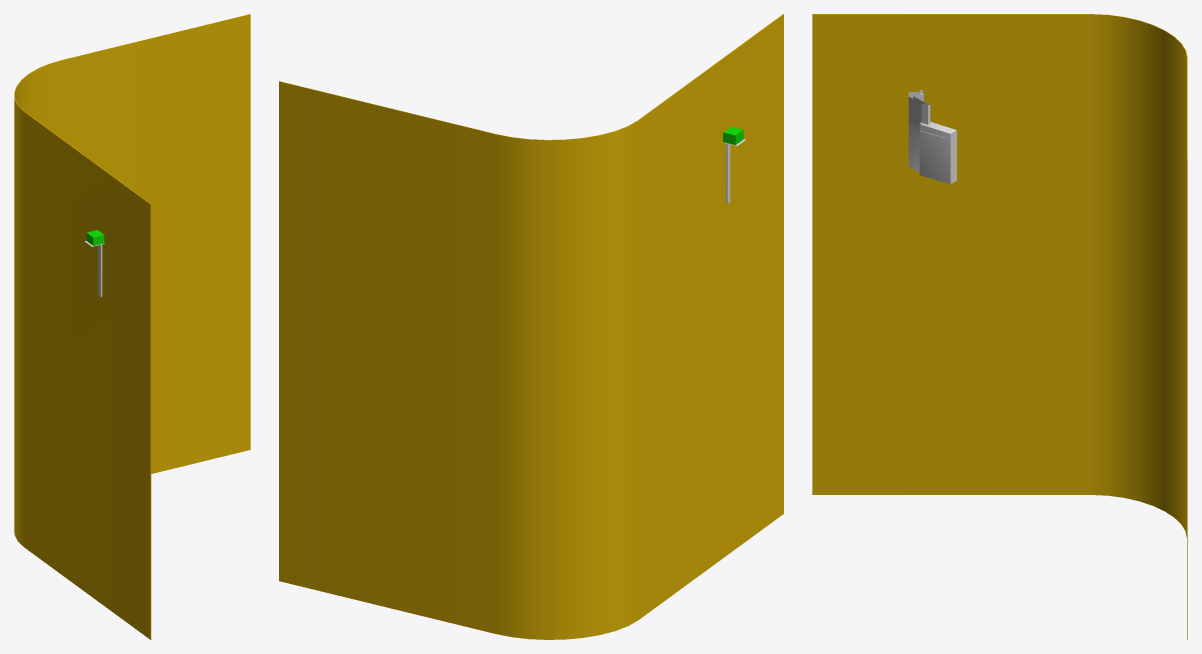
File: stairroom_2.fbx
The picture shows the model from 3 angles, left to right: view 1: azimuth 30°, elevation 25°; view 2: azimuth 150°, elevation 25°; view 3: azimuth 270°, elevation 25°; orthographic projection. The views are drawn at different scales.
Parts seen in each view (by area): view 1: backdrop; view 2: backdrop; view 3: backdrop, exit, bounds, stairs.
Part boxes in pixels (x1,y1,x2,y2): backdrop: [14, 14, 250, 639]; backdrop: [279, 14, 783, 639]; backdrop: [812, 14, 1187, 639]; exit: [919, 121, 956, 184]; bounds: [908, 90, 930, 127]; stairs: [908, 122, 919, 172].
Size of the model in its own units: 17969 by 26443 by 18718.
